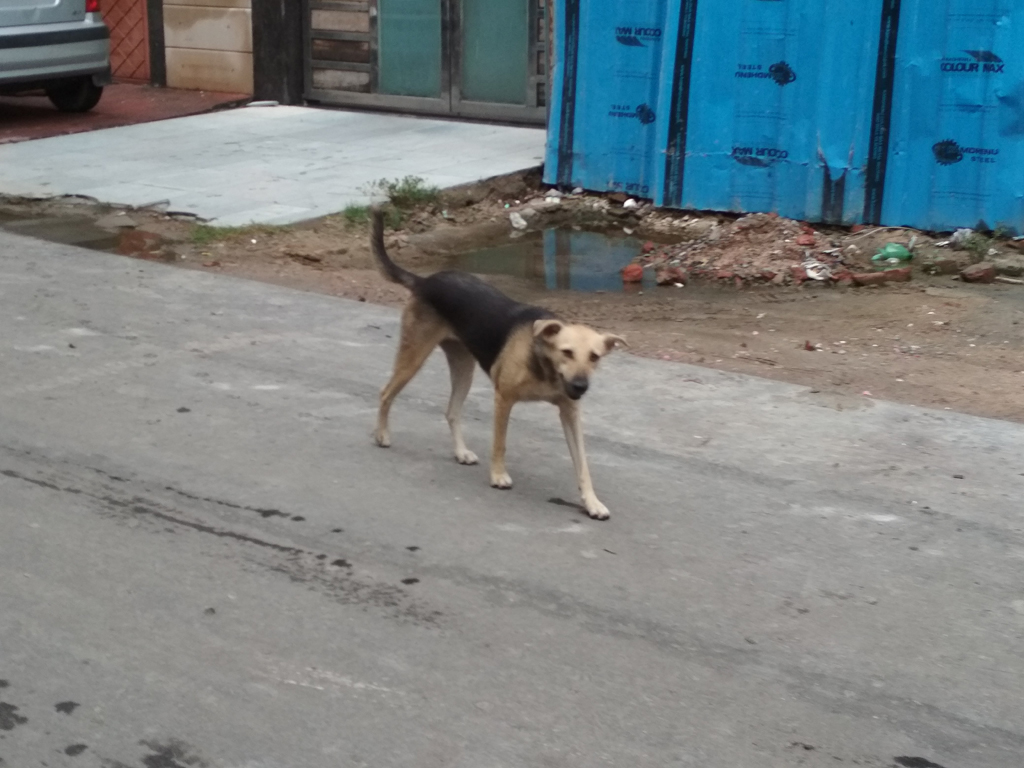dog: (366, 204, 630, 521)
